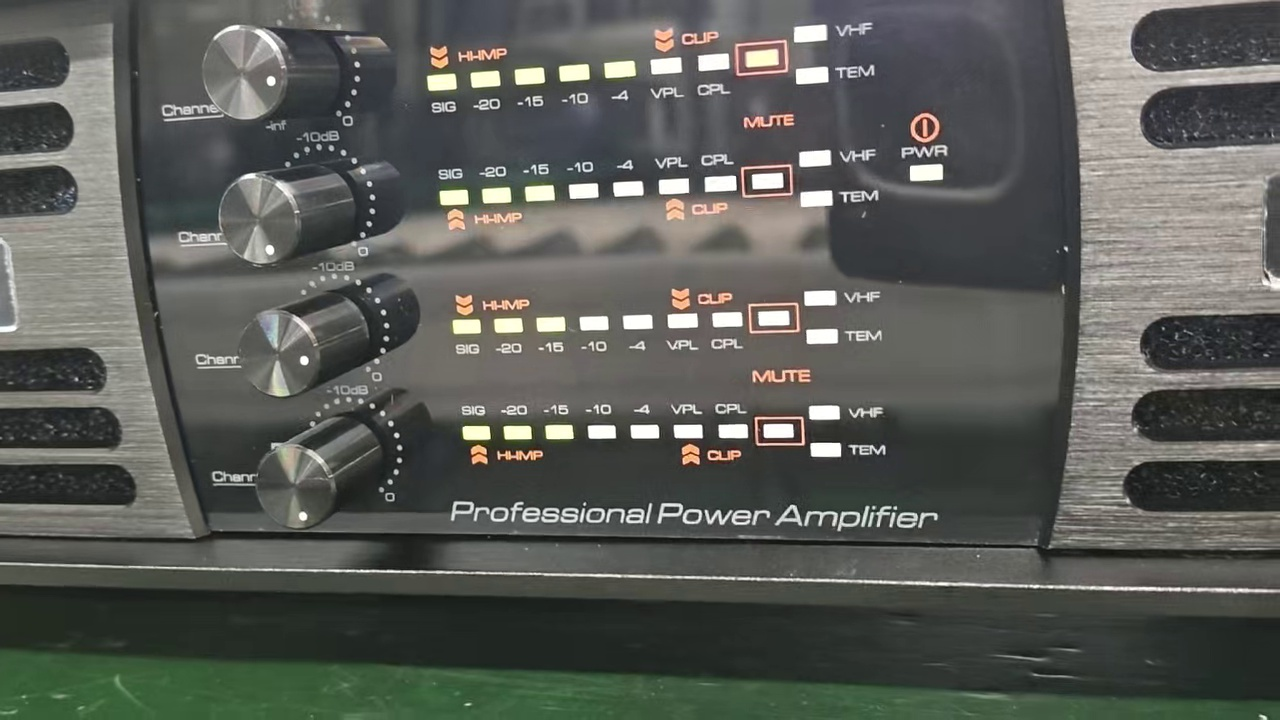FP_CPL: (694, 48, 734, 102), (700, 149, 738, 199), (708, 307, 748, 352), (712, 399, 751, 443)
FP_PWR: (897, 140, 952, 189)
FP_PWR_area: (894, 105, 956, 197)
FP_SIG_area: (420, 17, 884, 112), (430, 140, 882, 232), (452, 396, 898, 473), (448, 287, 890, 352)
FP_VPL: (644, 52, 689, 106), (651, 149, 693, 199), (667, 400, 708, 443), (664, 308, 699, 351)
